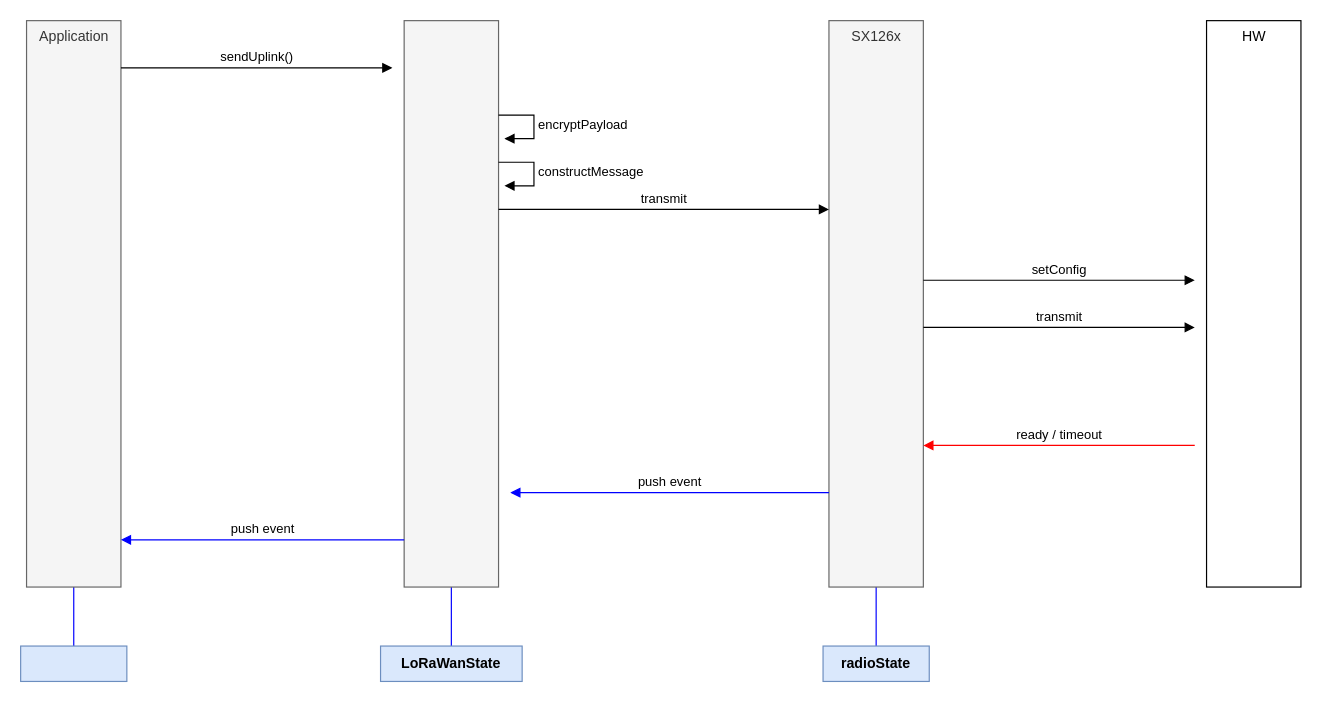
Some shapes in this 1322 by 702 pixel diagram are drawn without their labels. The shapes that lost their labels are listed below. From the top down, each one's centre as x and y in pixels, then its label:
pixel 451 303: LoRaWAN LoRa
pixel 73 663: mainState
